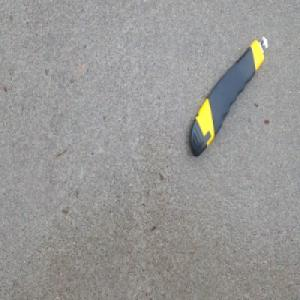Cutter: (187, 37, 266, 160)
